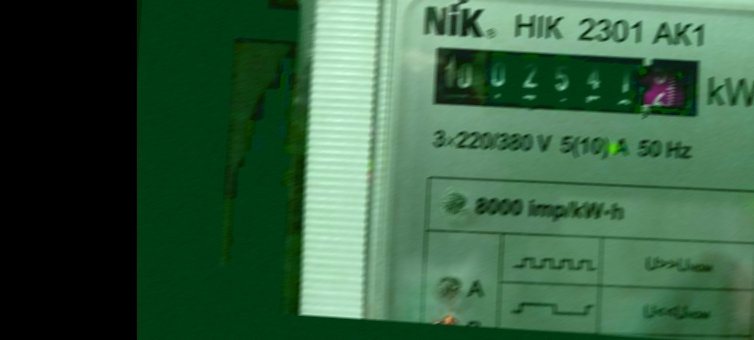0: (488, 56, 510, 90), (457, 60, 476, 90)
1: (616, 61, 635, 95)
2: (519, 57, 543, 92)
4: (586, 60, 605, 93)
5: (553, 61, 571, 94)
6: (651, 88, 668, 110)
screen: (418, 29, 724, 138)
